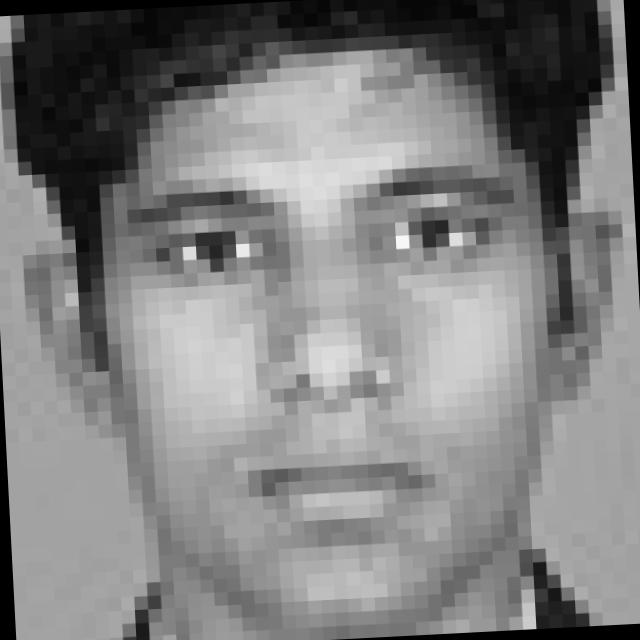neutral: (119, 148, 530, 554)
